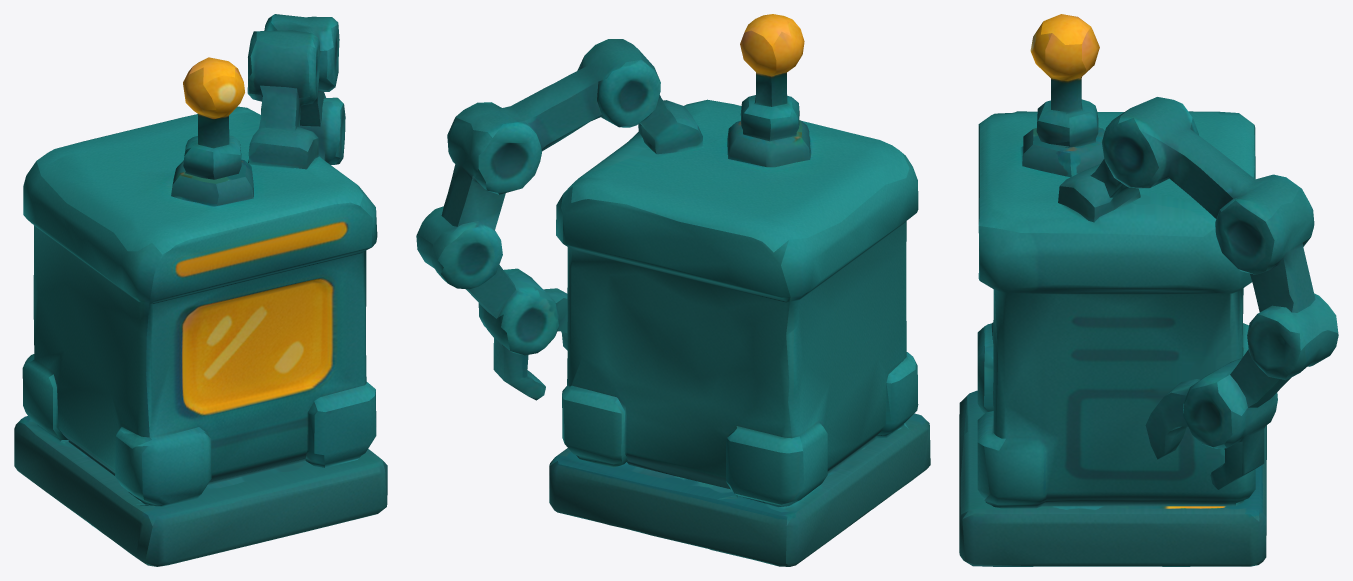
Rendered from Environment 4.6.fbx.
3 renders of one model, left to right at view 1: azimuth 30°, elevation 25°; view 2: azimuth 150°, elevation 25°; view 3: azimuth 270°, elevation 25°, orthographic. The views are drawn at different scales.
Parts seen in each view (by area): view 1: tmp8uuvuyww.ply; view 2: tmp8uuvuyww.ply; view 3: tmp8uuvuyww.ply.
Part boxes in pixels (<box>): tmp8uuvuyww.ply: <box>14,14,387,566</box>; tmp8uuvuyww.ply: <box>416,14,930,566</box>; tmp8uuvuyww.ply: <box>959,14,1338,566</box>.
Bounding box in the file's own units: 164 × 199 × 142.
1 material, 1 textured.
